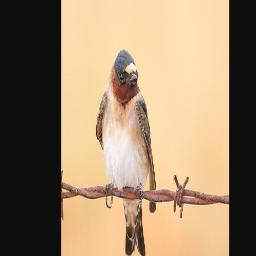Swallow: (95, 48, 157, 256)
